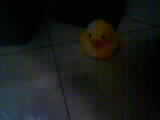duck: (75, 13, 122, 58)
